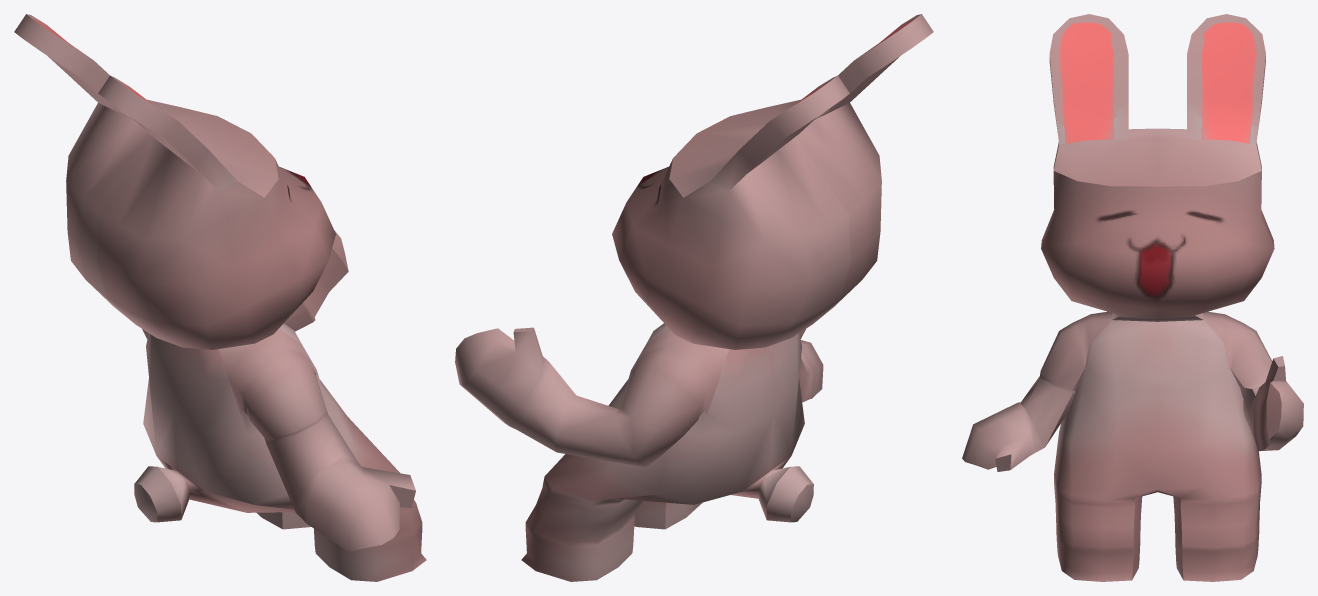
3 renders of one model, left to right at view 1: azimuth 30°, elevation 25°; view 2: azimuth 150°, elevation 25°; view 3: azimuth 270°, elevation 25°, orthographic. The views are drawn at different scales.
Parts seen in each view (by area): view 1: Rb_R_S7; view 2: Rb_R_S7; view 3: Rb_R_S7.
Part boxes in pixels (x1,y1,x2,y2): Rb_R_S7: [14, 14, 426, 581]; Rb_R_S7: [455, 14, 933, 581]; Rb_R_S7: [962, 14, 1303, 581].
Size of the model in its own units: 3.67 by 5.39 by 3.74.
